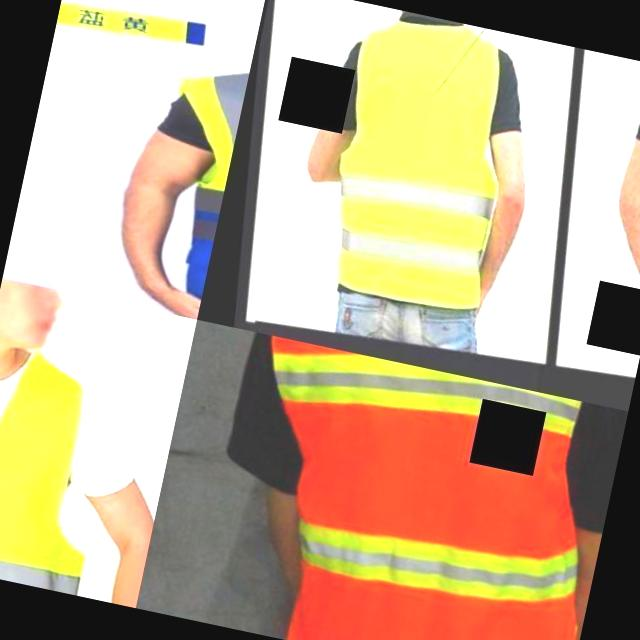vest: (237, 341, 625, 640), (298, 1, 528, 328), (0, 333, 129, 596)
